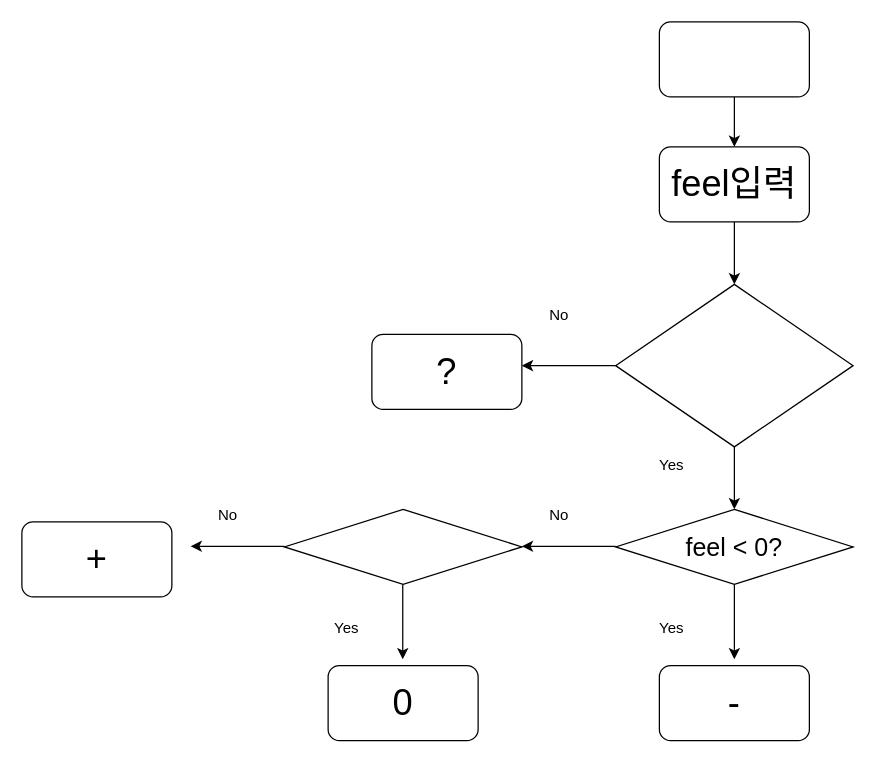
Image size: 875x763. Some labels were removed from this diagram. Here are the shapes that lost their labels. From the top down, the centre of each, then its label:
point 733,59: 시작
point 733,365: feel >= -100 && feel <= 100
point 402,546: feel == 0?
